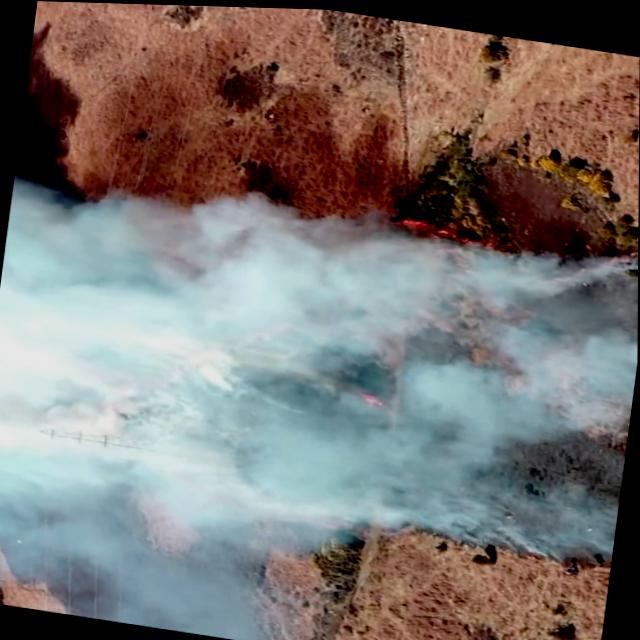smoke: (0, 304, 633, 549), (0, 159, 523, 394), (368, 280, 638, 447), (0, 263, 223, 454)
